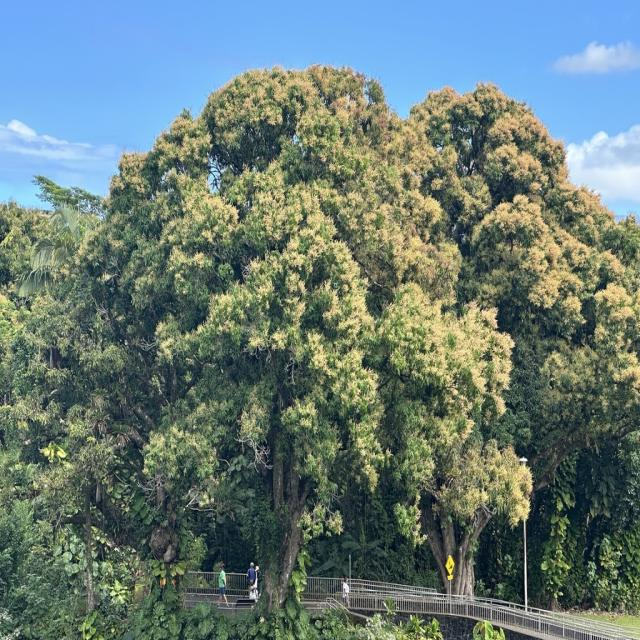Mango-Tree: (99, 73, 640, 569)
